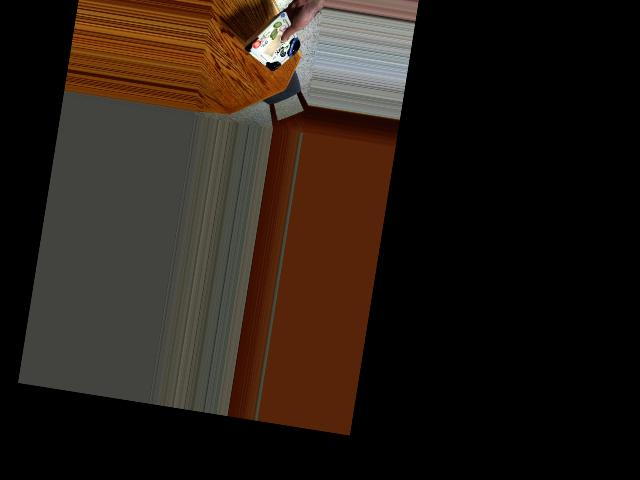cheese: (245, 14, 298, 74)
